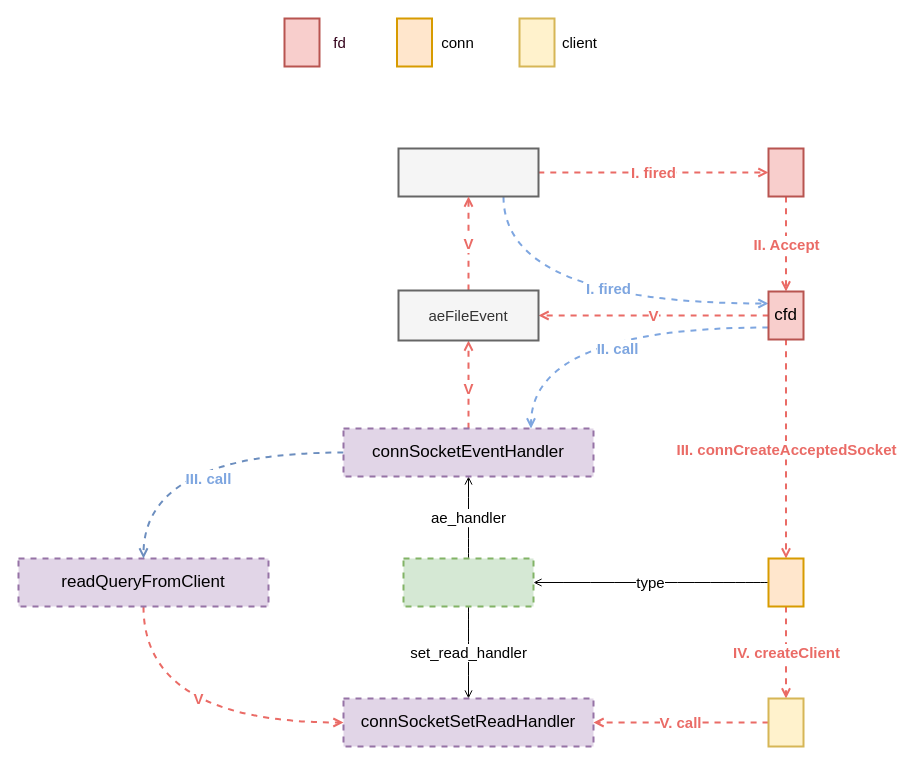
The diagram is 913 pixels wide and 764 high, and some of its shapes have lost their labels. The centre of each missing label's shape, as x and y in pixels:
"CT_Socket" belongs at pixel 468 582.
"EventLoop" belongs at pixel 468 172.
"ipfd" belongs at pixel 785 172.
